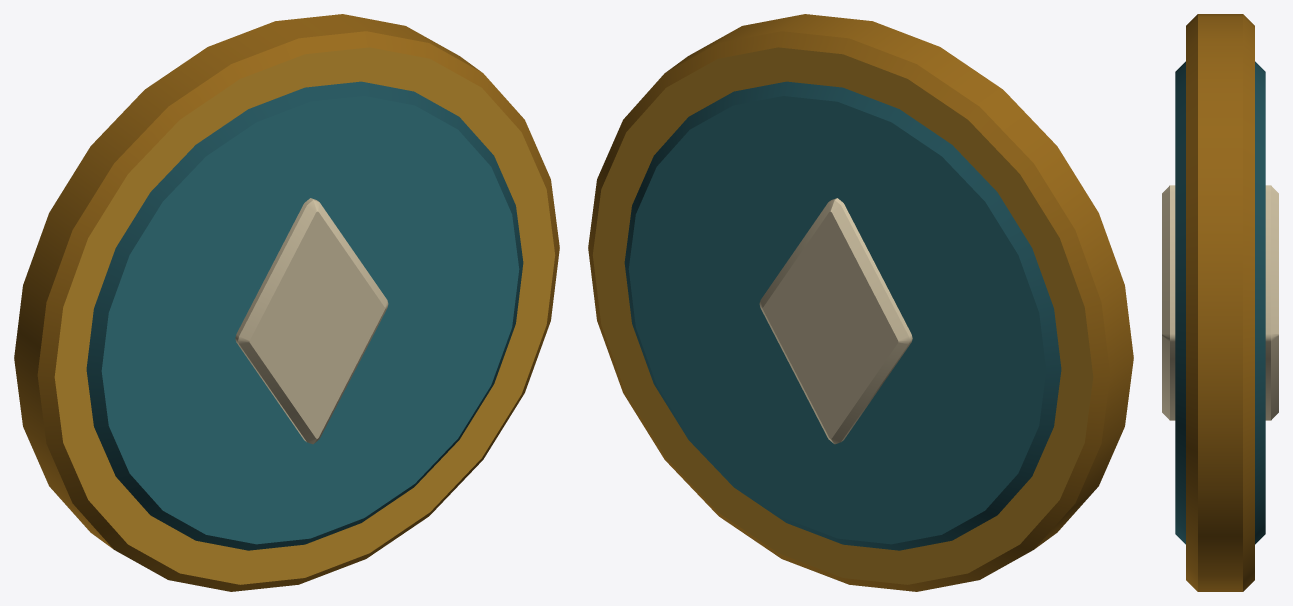
Rendered from Badge_16.glb.
3 views of the same model, side by side, from view 1: azimuth 30°, elevation 25°; view 2: azimuth 150°, elevation 25°; view 3: azimuth 270°, elevation 25° (orthographic). The views are drawn at different scales.
Visible parts, largest first — view 1: Badge_16; view 2: Badge_16; view 3: Badge_16.
Boxes of the visible parts, left/top/right/bottom form: Badge_16: left=14, top=14, right=559, bottom=591; Badge_16: left=588, top=14, right=1133, bottom=591; Badge_16: left=1162, top=14, right=1278, bottom=591.
Bounding box in the file's own units: 2.18 × 2.18 × 0.44.
